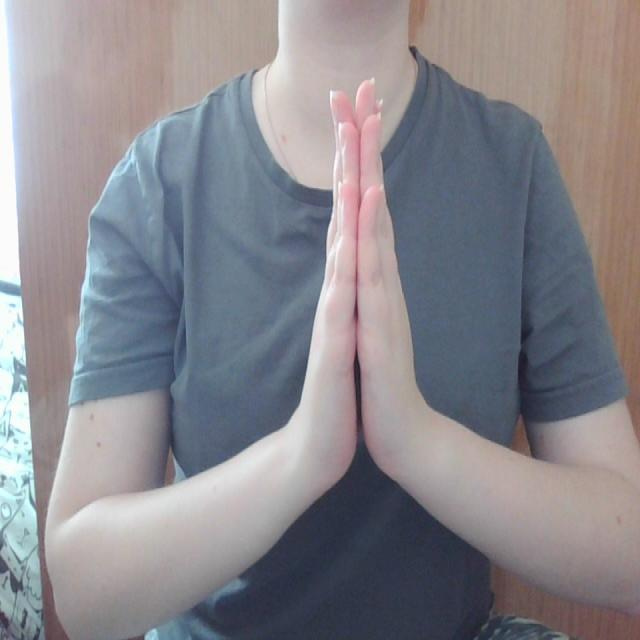Ozur-Dilemek: (280, 74, 430, 502)
